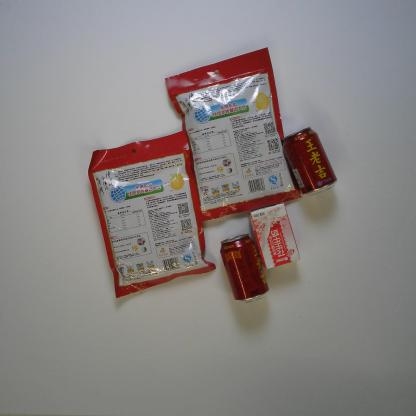Drink: (282, 125, 338, 199), (219, 234, 270, 304)
Instant Drink: (164, 42, 308, 224), (87, 126, 217, 300)
Milk: (248, 202, 302, 272)
